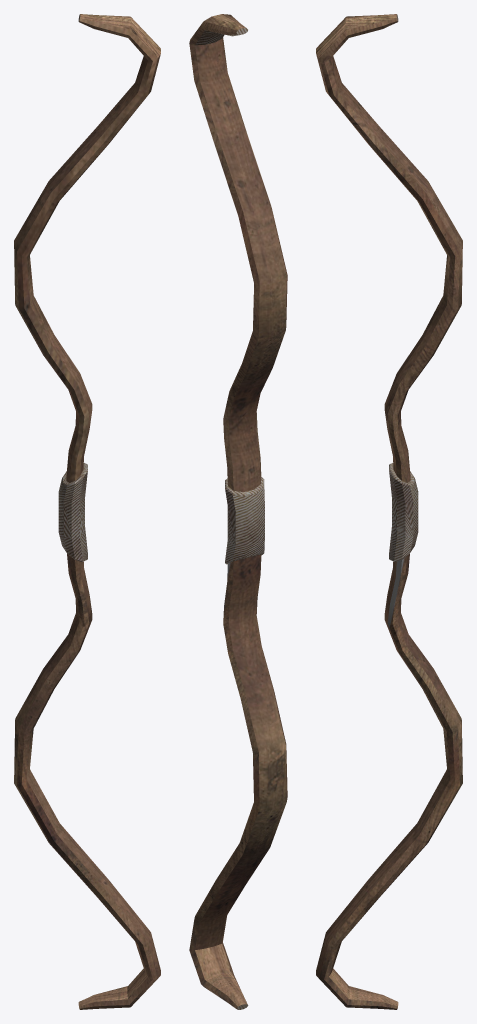
The model's file is archery_bow.fbx.
The picture shows the model from 3 angles, left to right: view 1: azimuth 90°, elevation 25°; view 2: azimuth 210°, elevation 25°; view 3: azimuth 270°, elevation 25°; orthographic projection.
Visible parts, largest first — view 1: bow; view 2: bow; view 3: bow.
Part boxes in pixels (x1,y1,x2,y2): bow: [14, 14, 160, 1009]; bow: [189, 14, 287, 1009]; bow: [316, 14, 462, 1009].
Size of the model in its own units: 0.3893 by 9.32 by 1.25.
Materials: 1 (1 with a texture image).
